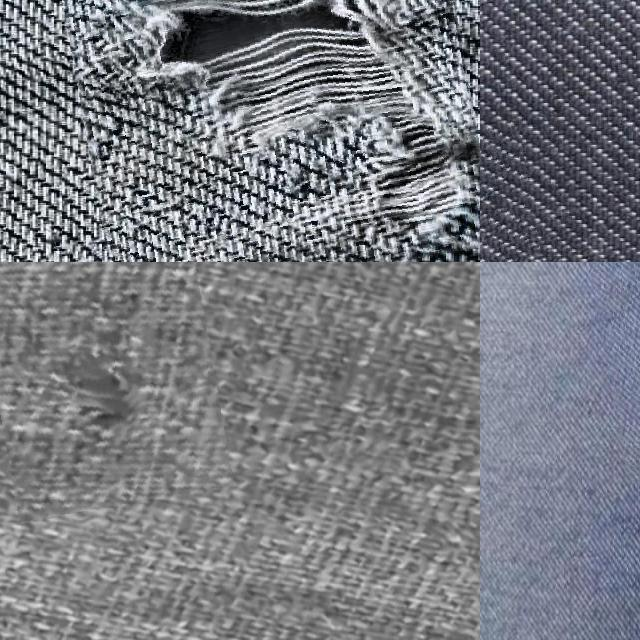Thread_other: (480, 132, 553, 262)
seam: (63, 0, 480, 262), (0, 262, 224, 513)
